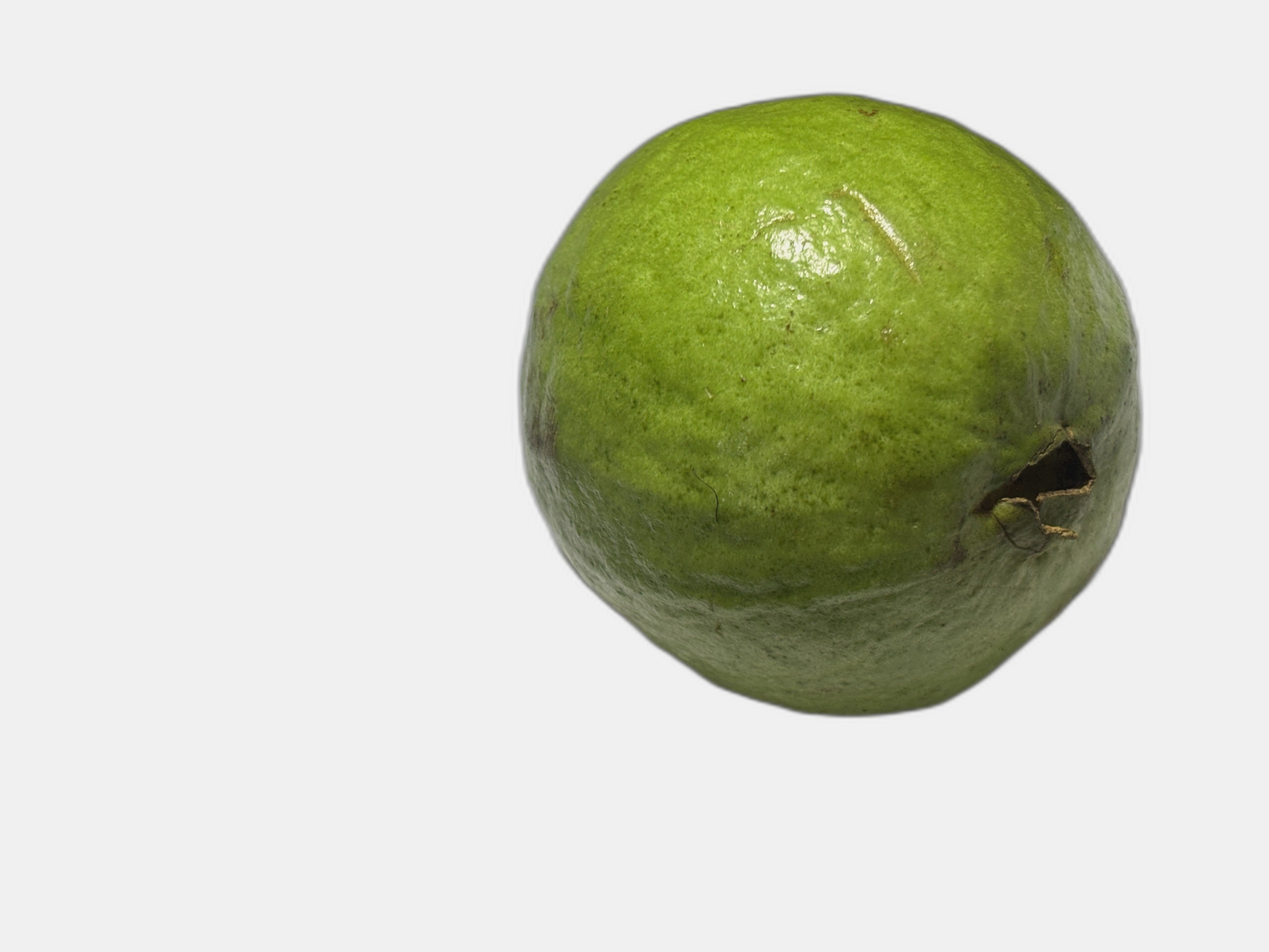guava: (171, 51, 1237, 733)
